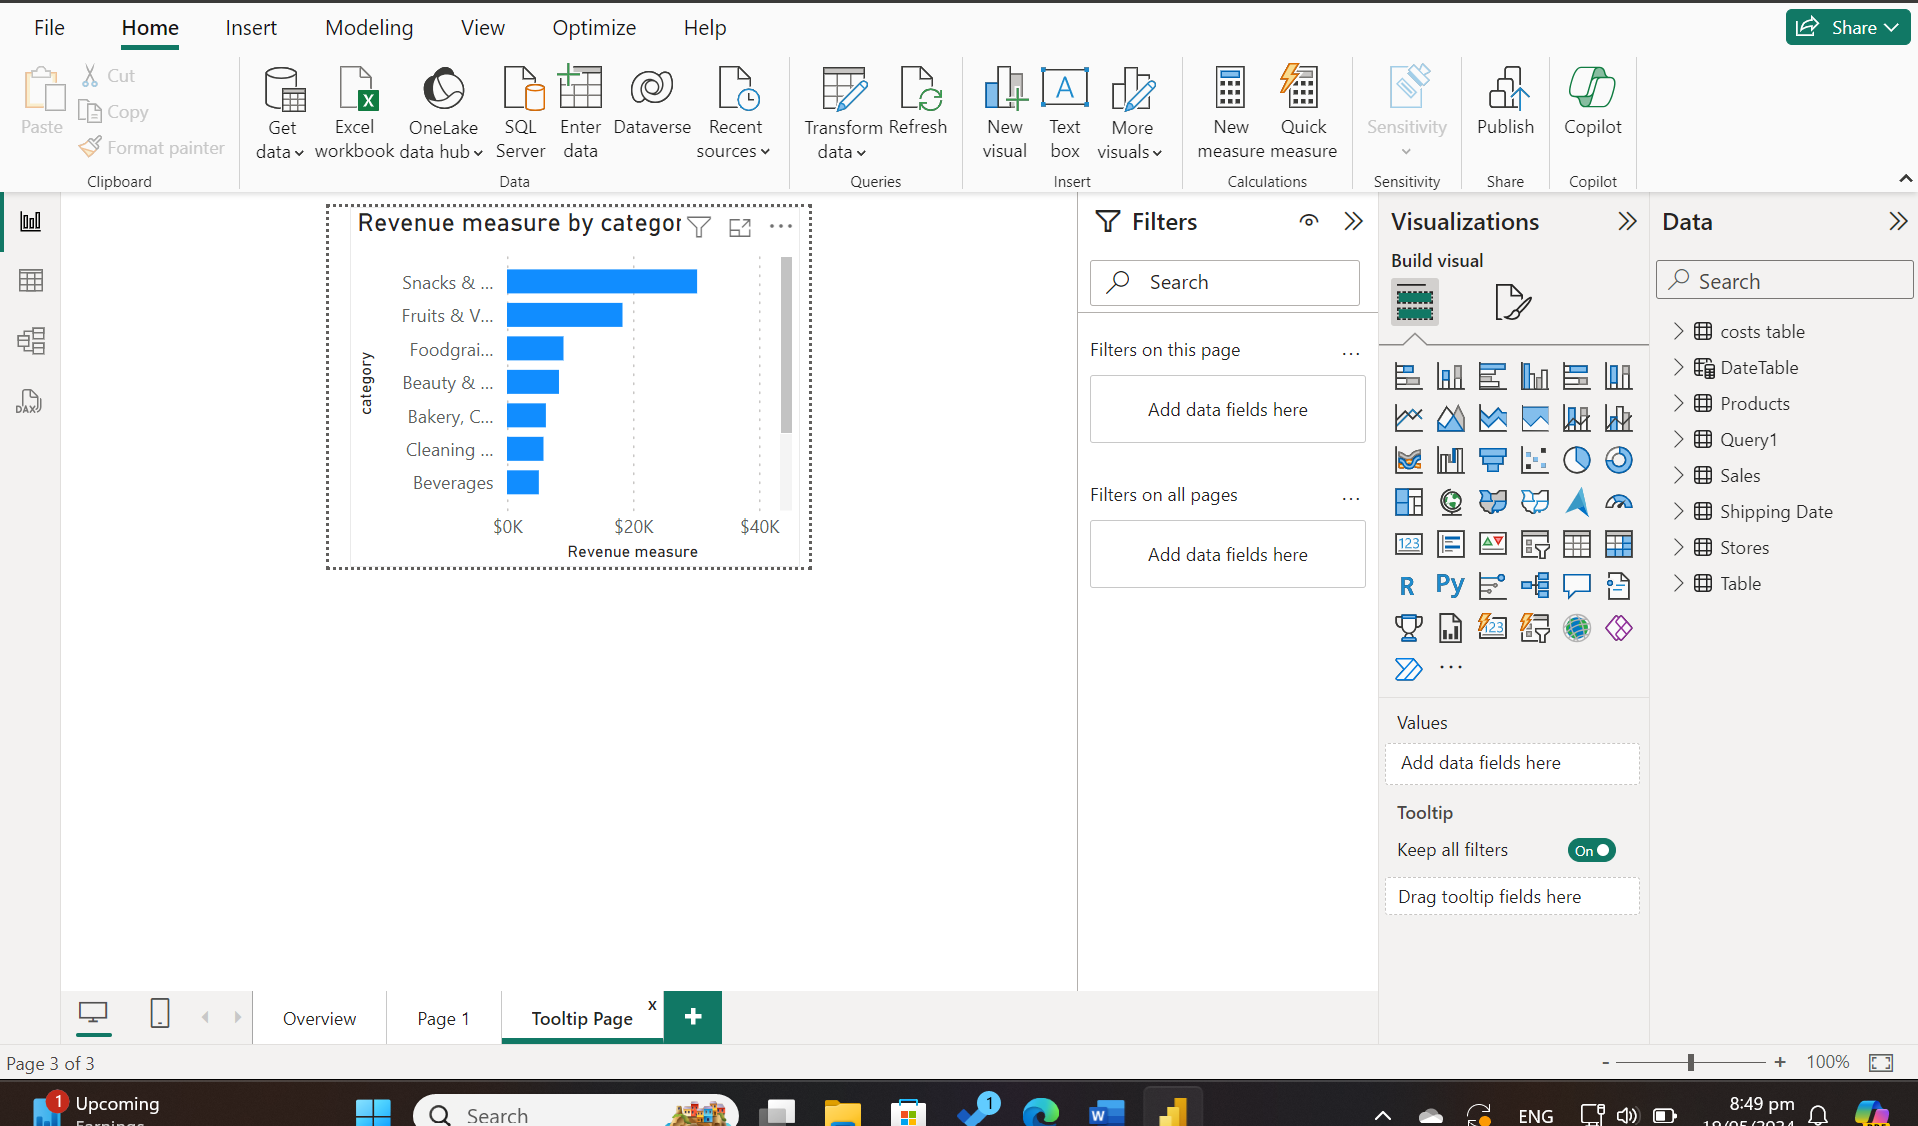

What the dashboard file says about the page in this screenshot:
{"tool":"powerbi","page":{"name":"Tooltip Page","canvas":[320,240],"ordinal":3},"visuals":[{"type":"barChart","fields":{"Category":["Products.category"],"Y":["Sales.Revenue measure"]},"box":[14,0,300,240],"z":0}]}

Visuals, with their boxes in screenshot pixels (x1, y1, x2, y2):
barChart - Products.category x Sales.Revenue measure: BBox(57, 0, 1394, 1069)
